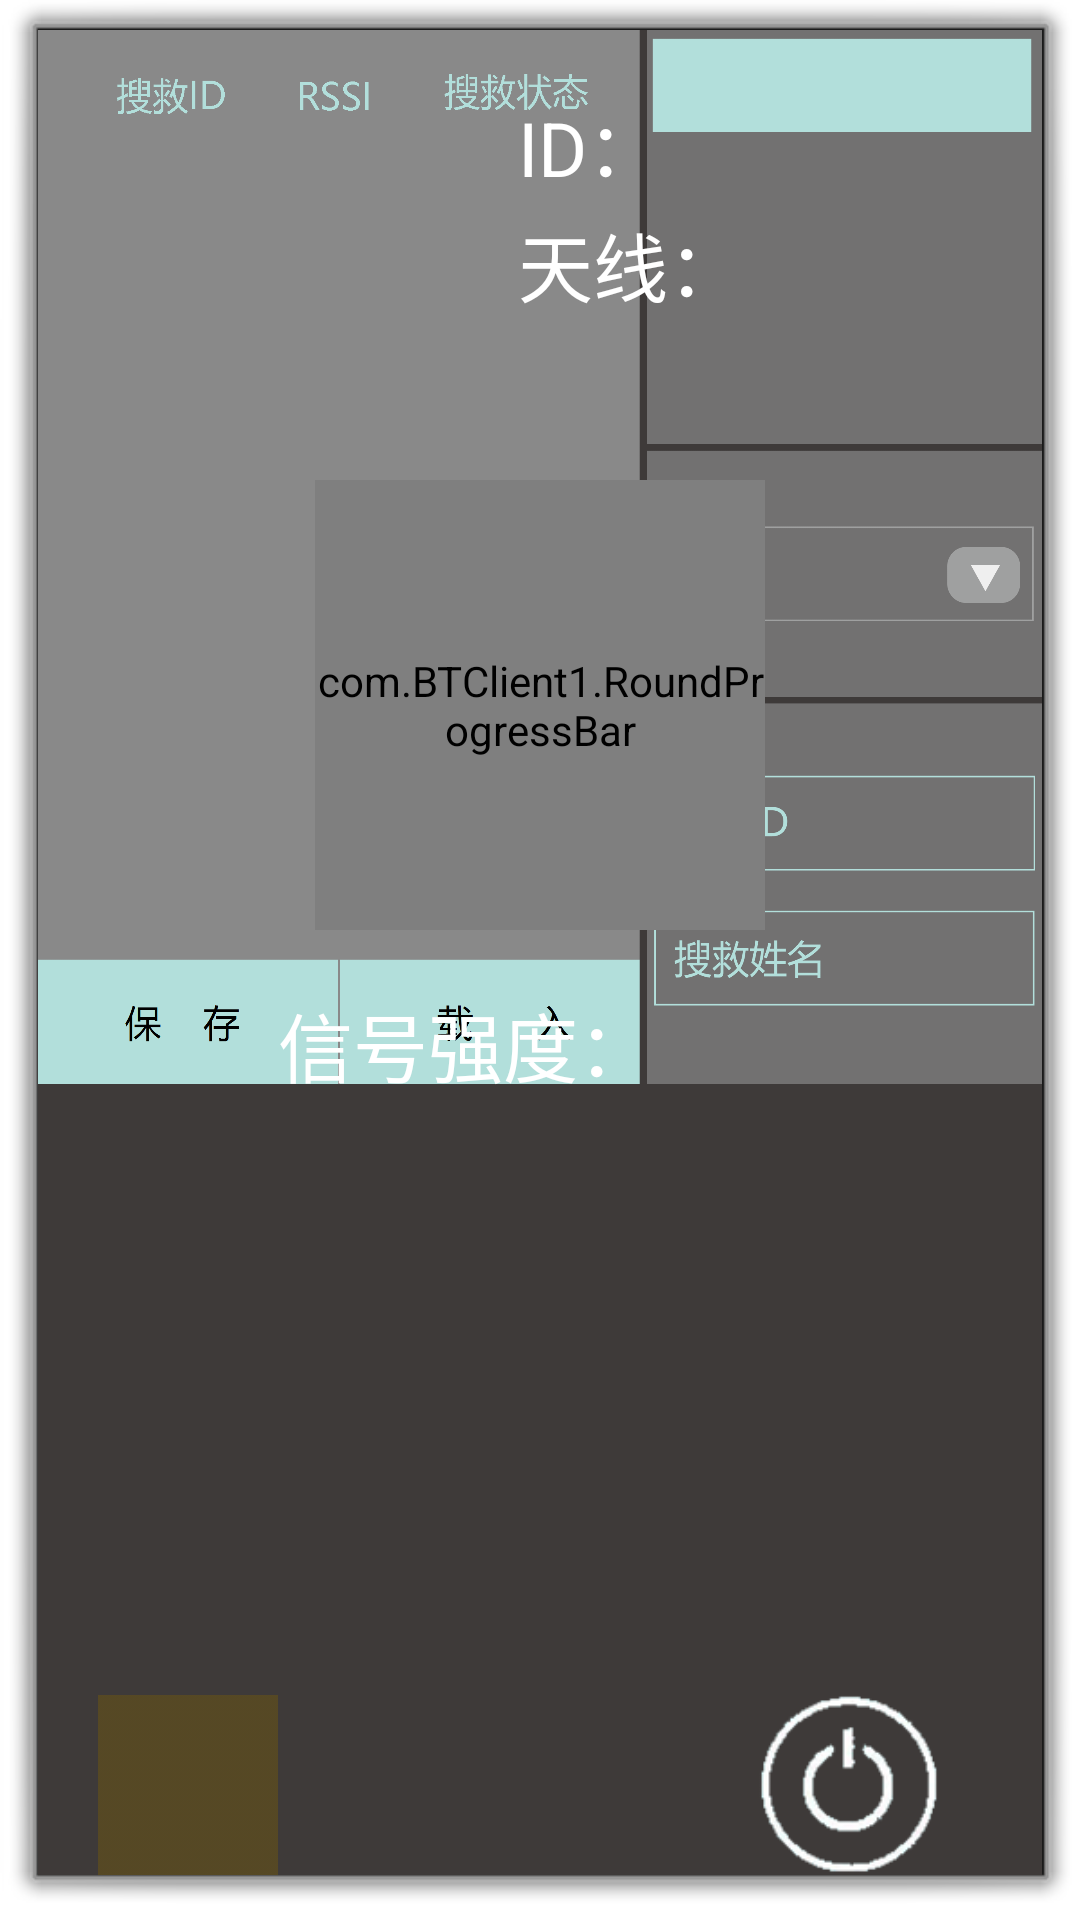

Screen size 1080×1920. Icon name, then its box in pixels as (x1, y1, x2, y2):
shut: (802, 1727, 894, 1832)
